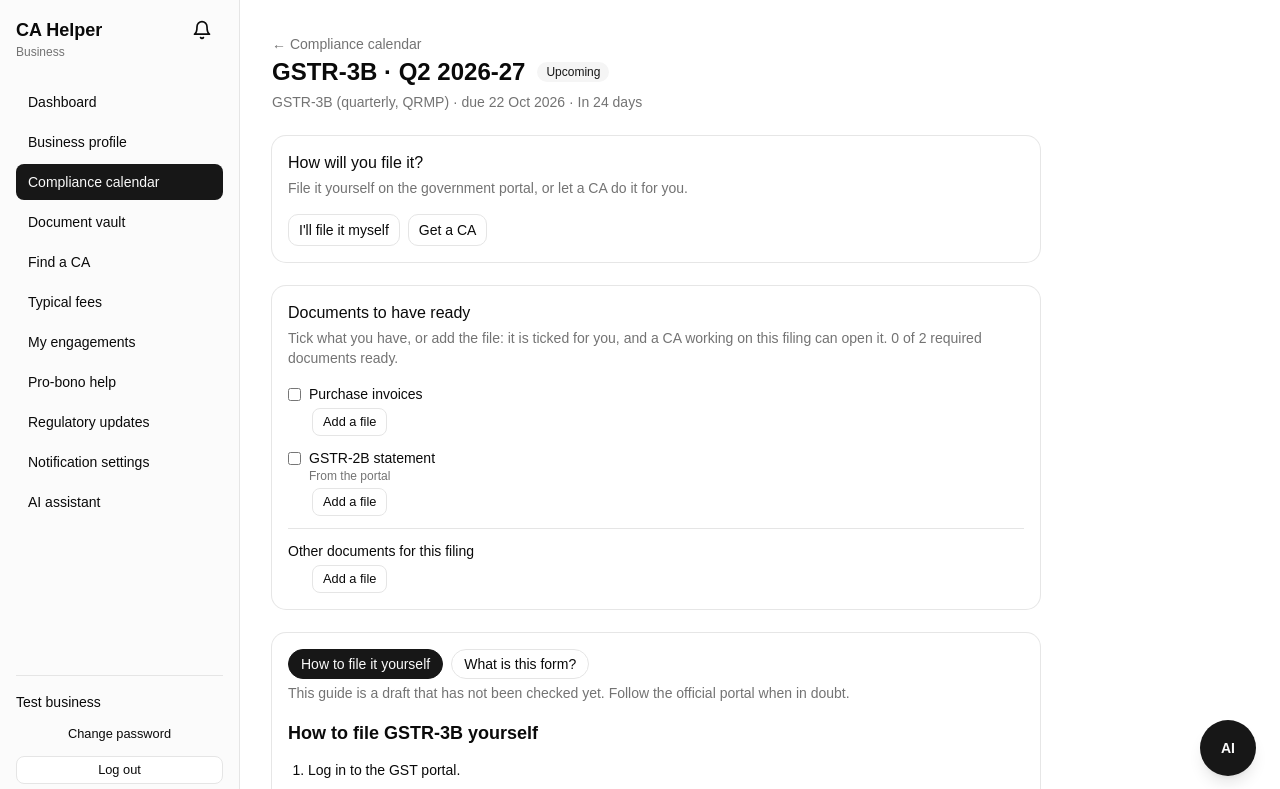
filing page › ticks a document and shows the new status
Click the checkbox labelled "Purchase invoices". click: [294, 394]
box: [288,388,301,401]
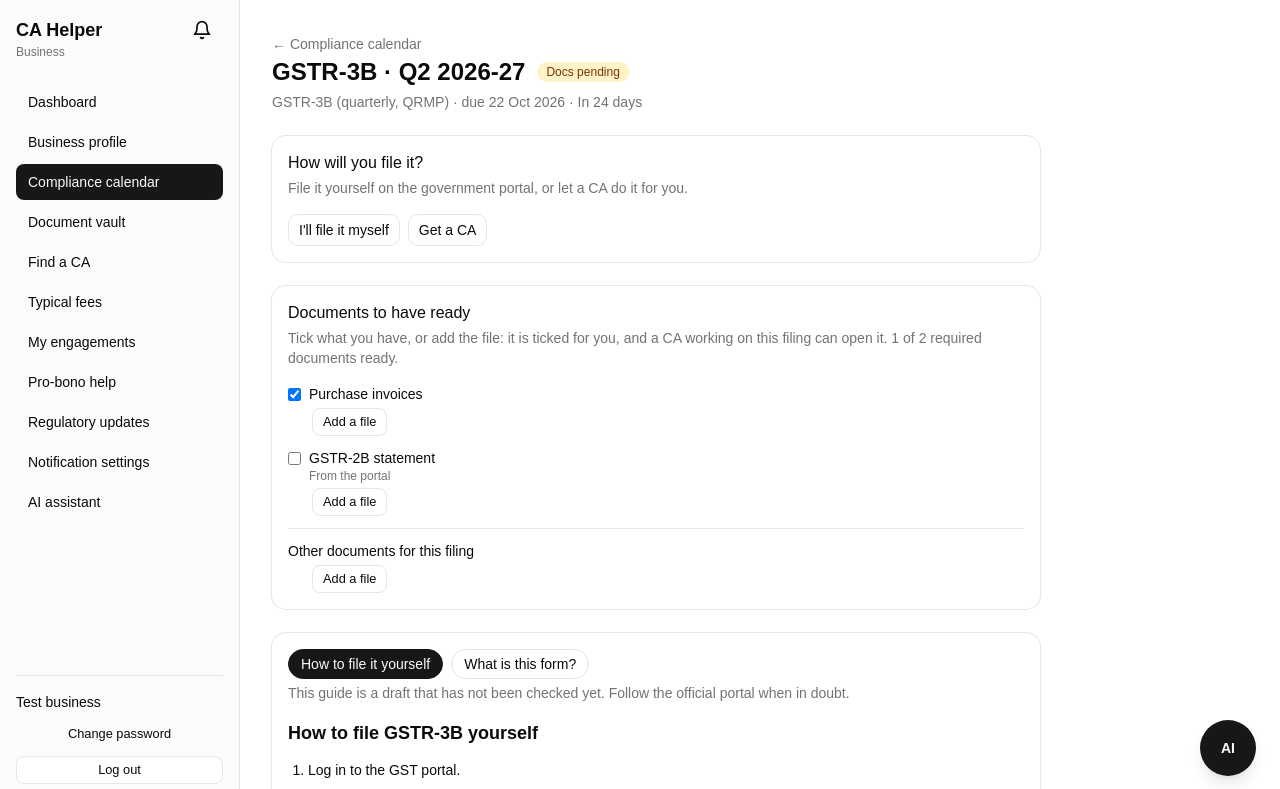
Expected: the text "1 of 2 required documents ready." is shown, [288,328,1024,368]
Expected: the text "Docs pending" is shown, [537,62,629,82]
